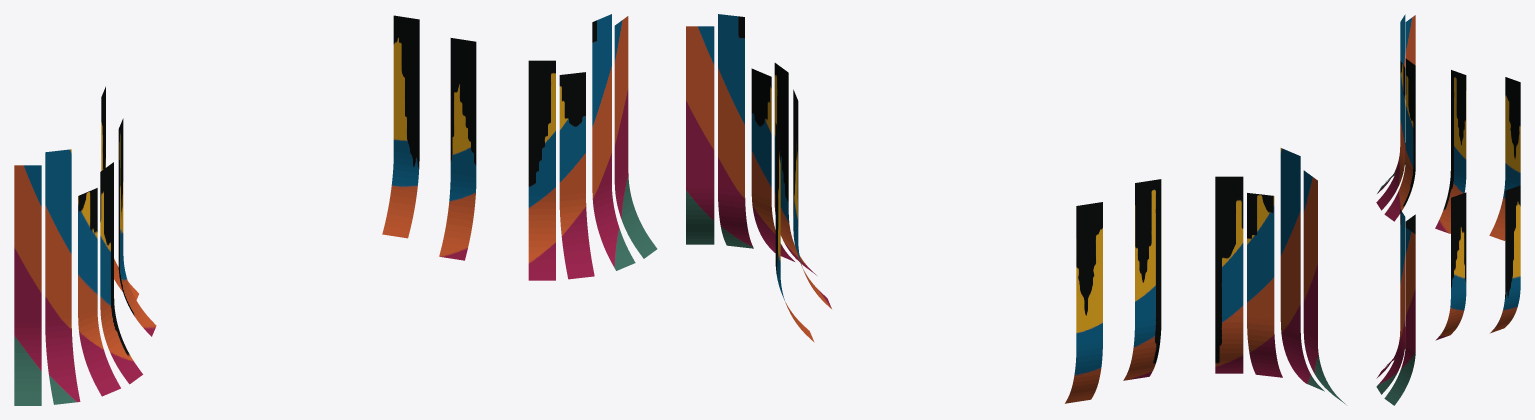
The model's file is banners.glb.
3 renders of one model, left to right at view 1: azimuth 30°, elevation 25°; view 2: azimuth 150°, elevation 25°; view 3: azimuth 270°, elevation 25°, orthographic. The views are drawn at different scales.
Visible parts, largest first — view 1: LED_Panel_11.001; view 2: LED_Panel_11.001; view 3: LED_Panel_11.001.
Part boxes in pixels (box(x1,y1,x2,y2)): LED_Panel_11.001: box(14, 14, 657, 405); LED_Panel_11.001: box(686, 14, 1345, 404); LED_Panel_11.001: box(1376, 14, 1520, 405).
Size of the model in its own units: 32.52 by 11.54 by 8.61.
Materials: 1 (1 with a texture image).
